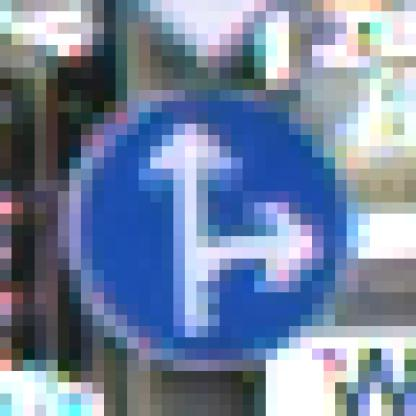Straight or Right: (59, 68, 359, 361)
